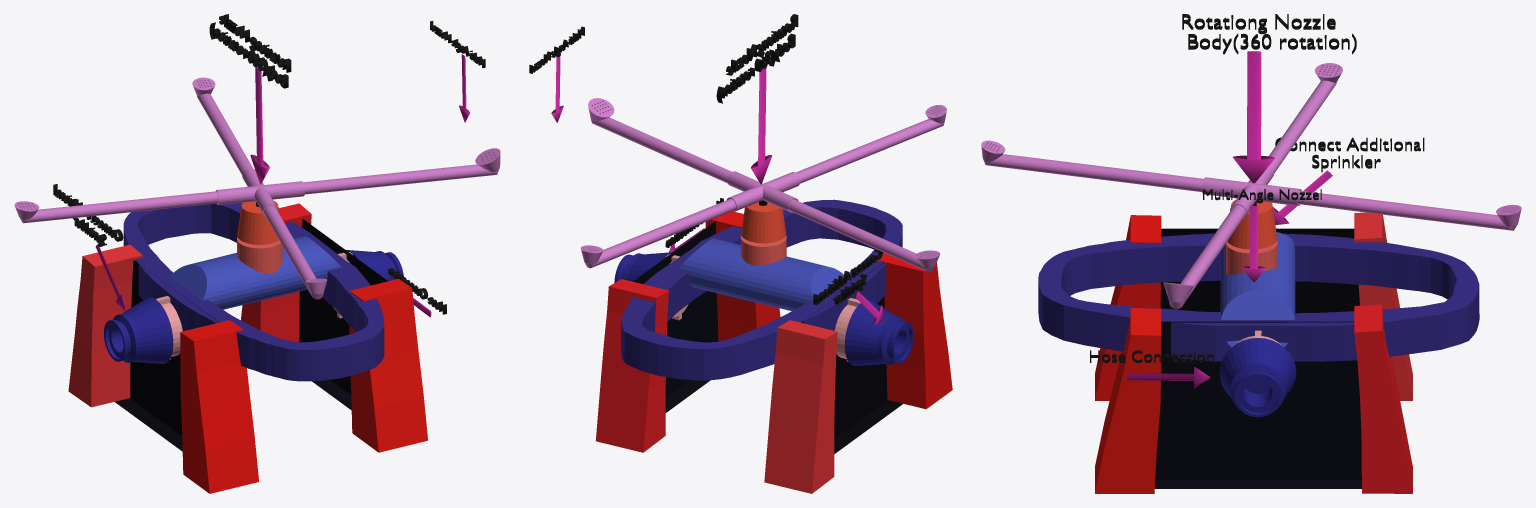
The model's file is Rotary Sprinkler.blend.gltf.
3 renders of one model, left to right at view 1: azimuth 30°, elevation 25°; view 2: azimuth 150°, elevation 25°; view 3: azimuth 270°, elevation 25°, orthographic. The views are drawn at different scales.
Visible parts, largest first — view 1: Plane.006, Plane.001, Cylinder.009, Plane.004, Plane, Cylinder.002, Plane.002, Cylinder.001, Plane.005, Plane.003, Text, Cylinder.004 (+7 smaller); view 2: Plane.006, Cylinder.009, Plane, Plane.003, Plane.001, Cylinder.002, Plane.002, Plane.005, Cylinder.001, Plane.004, Text, Cylinder.004 (+6 smaller); view 3: Plane.006, Plane.005, Cylinder.009, Plane.004, Plane.003, Cylinder.007, Cylinder.002, Plane.002, Plane.001, Text, Plane, Cylinder.084 (+7 smaller).
Part boxes in pixels (x1,y1,x2,y2): Plane.006: (123, 202, 384, 381); Plane.001: (180, 320, 258, 493); Cylinder.009: (14, 77, 500, 299); Plane.004: (349, 279, 427, 452); Plane: (68, 244, 142, 407); Cylinder.002: (170, 236, 341, 309); Plane.002: (115, 260, 218, 451); Cylinder.001: (103, 297, 173, 363); Plane.005: (299, 219, 387, 410); Plane.003: (241, 203, 311, 342); Text: (209, 14, 291, 88); Cylinder.004: (237, 200, 279, 244); Plane.006: (621, 199, 902, 380); Cylinder.009: (580, 98, 946, 272); Plane: (764, 320, 837, 493); Plane.003: (595, 279, 668, 452); Plane.001: (877, 252, 952, 409); Cylinder.002: (677, 238, 843, 311); Plane.002: (801, 262, 902, 453); Plane.005: (633, 221, 718, 412); Cylinder.001: (844, 299, 913, 365); Plane.004: (705, 211, 780, 341); Text: (716, 14, 798, 103); Cylinder.004: (741, 202, 786, 243); Plane.006: (1038, 233, 1479, 361); Plane.005: (1155, 321, 1361, 488); Cylinder.009: (981, 63, 1521, 309); Plane.004: (1095, 308, 1161, 493); Plane.003: (1354, 304, 1412, 493); Cylinder.007: (1219, 338, 1296, 417); Cylinder.002: (1220, 232, 1295, 347); Plane.002: (1160, 228, 1359, 313); Plane.001: (1095, 215, 1161, 400); Text: (1182, 14, 1356, 54); Plane: (1354, 212, 1412, 400); Cylinder.084: (1232, 51, 1274, 183).
Bounding box in the file's own units: 4.54 × 3.92 × 4.52.
